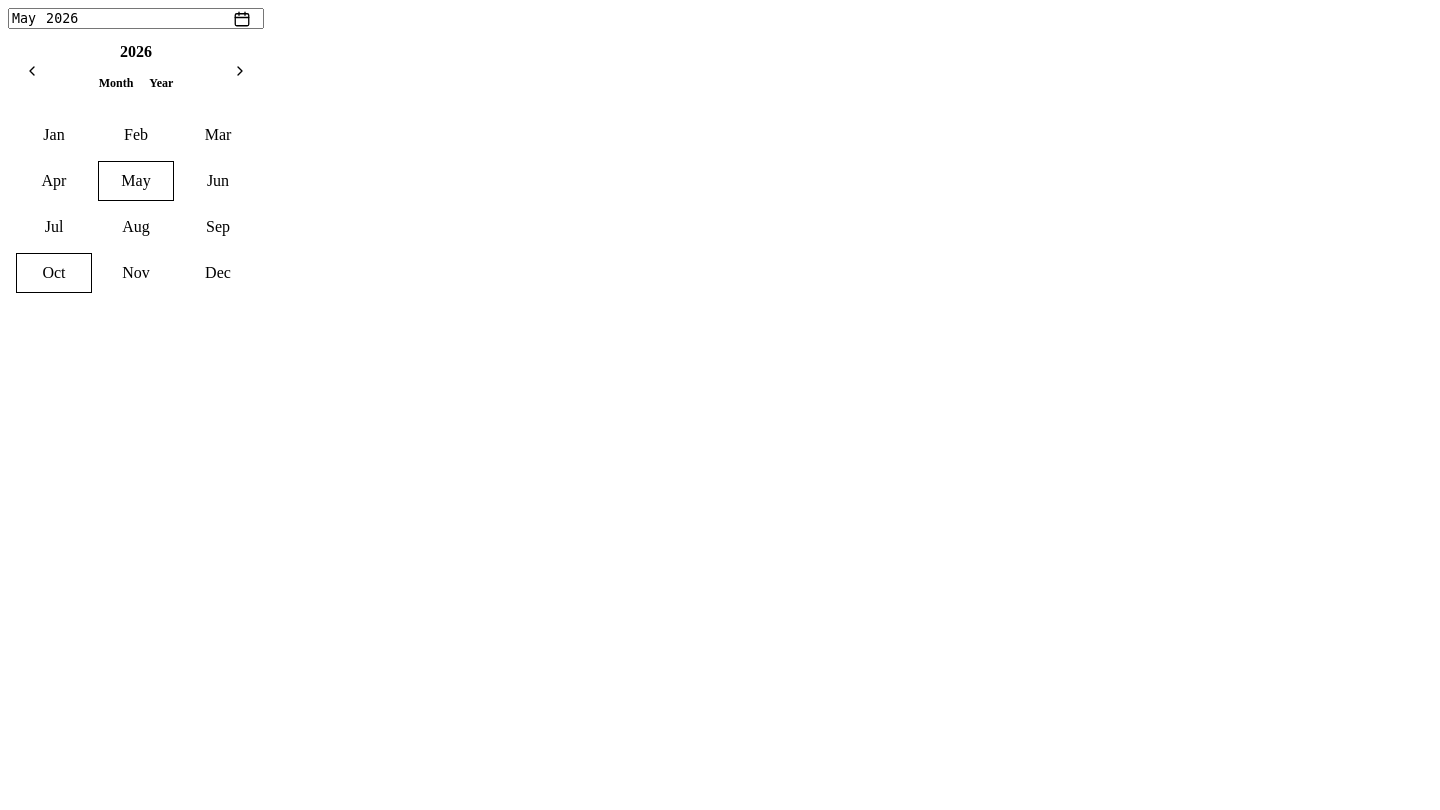
Scenario: DatePicker › month picker still commits a month string and closes
Click the button with aria-label "2026-08-01" at (136, 227), box [98, 207, 174, 247]
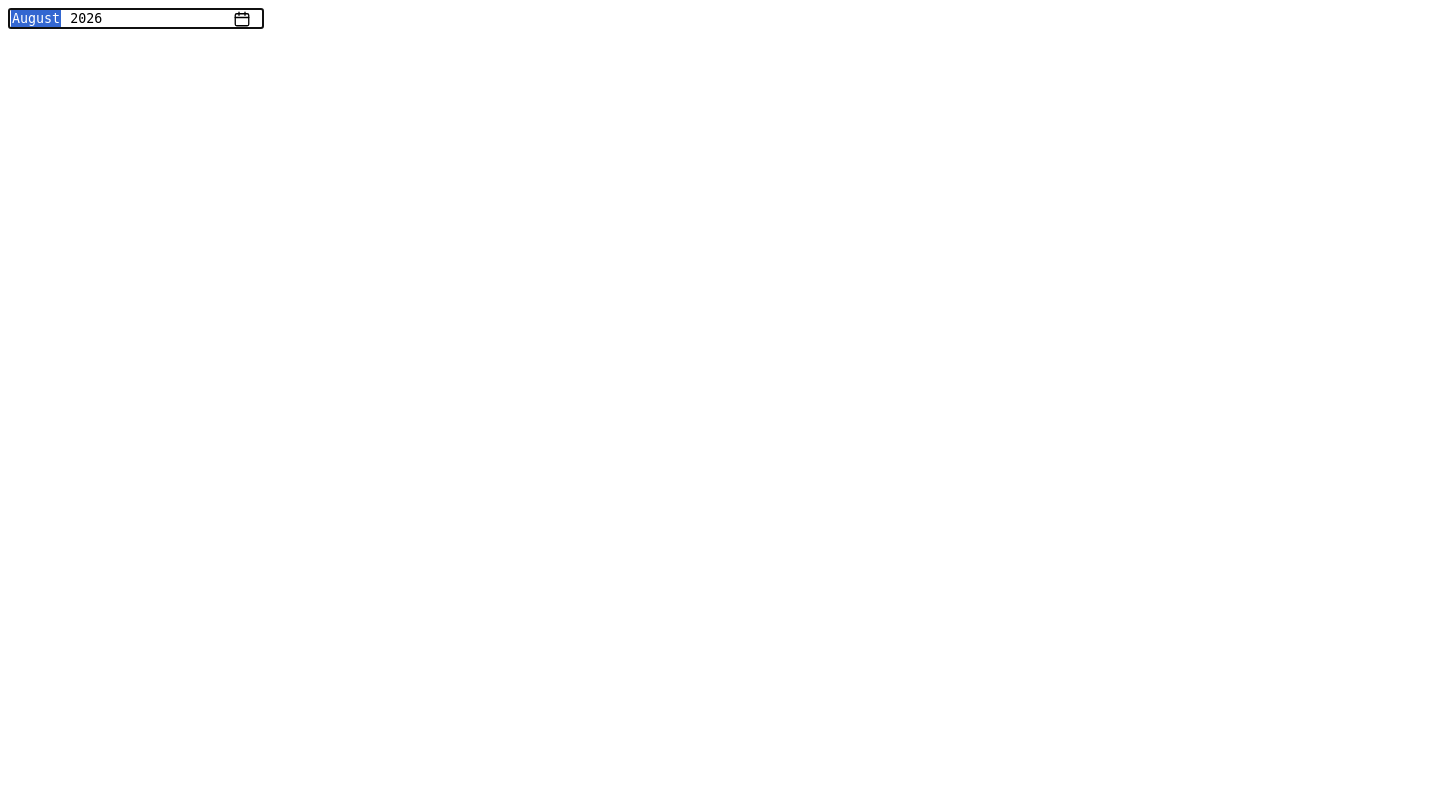
Check: the field showing "2026-08" is shown, box [8, 8, 264, 29]
Check: the dialog is gone
